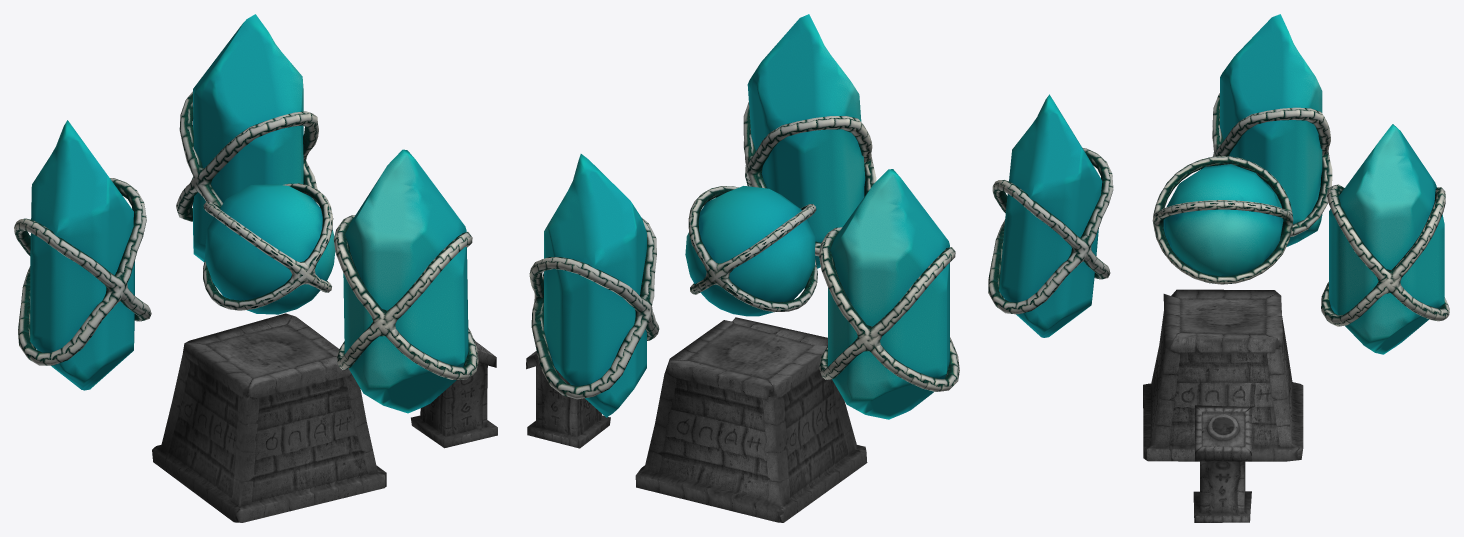
File: devicev02.fbx
3 views of the same model, side by side, from view 1: azimuth 30°, elevation 25°; view 2: azimuth 150°, elevation 25°; view 3: azimuth 270°, elevation 25° (orthographic). The views are drawn at different scales.
Parts seen in each view (by area): view 1: polySurface3, polySurface8, polySurface7, polySurface4, polySurface6; view 2: polySurface3, polySurface7, polySurface4, polySurface8, polySurface6; view 3: polySurface3, polySurface4, polySurface8, polySurface7, polySurface6.
Boxes of the visible parts, bbox=[...] form: polySurface3: bbox=[152, 313, 497, 522]; polySurface8: bbox=[333, 149, 478, 413]; polySurface7: bbox=[14, 120, 151, 390]; polySurface4: bbox=[176, 14, 318, 261]; polySurface6: bbox=[203, 183, 335, 314]; polySurface3: bbox=[526, 317, 867, 522]; polySurface7: bbox=[819, 169, 959, 419]; polySurface4: bbox=[529, 154, 659, 417]; polySurface8: bbox=[743, 14, 876, 268]; polySurface6: bbox=[685, 186, 817, 316]; polySurface3: bbox=[1143, 289, 1303, 522]; polySurface4: bbox=[1321, 124, 1449, 354]; polySurface8: bbox=[988, 94, 1113, 337]; polySurface7: bbox=[1212, 14, 1332, 246]; polySurface6: bbox=[1152, 156, 1293, 284].
Bounding box in the file's own units: 0.0617 × 0.0524 × 0.0624.
2 materials, 2 textured.
